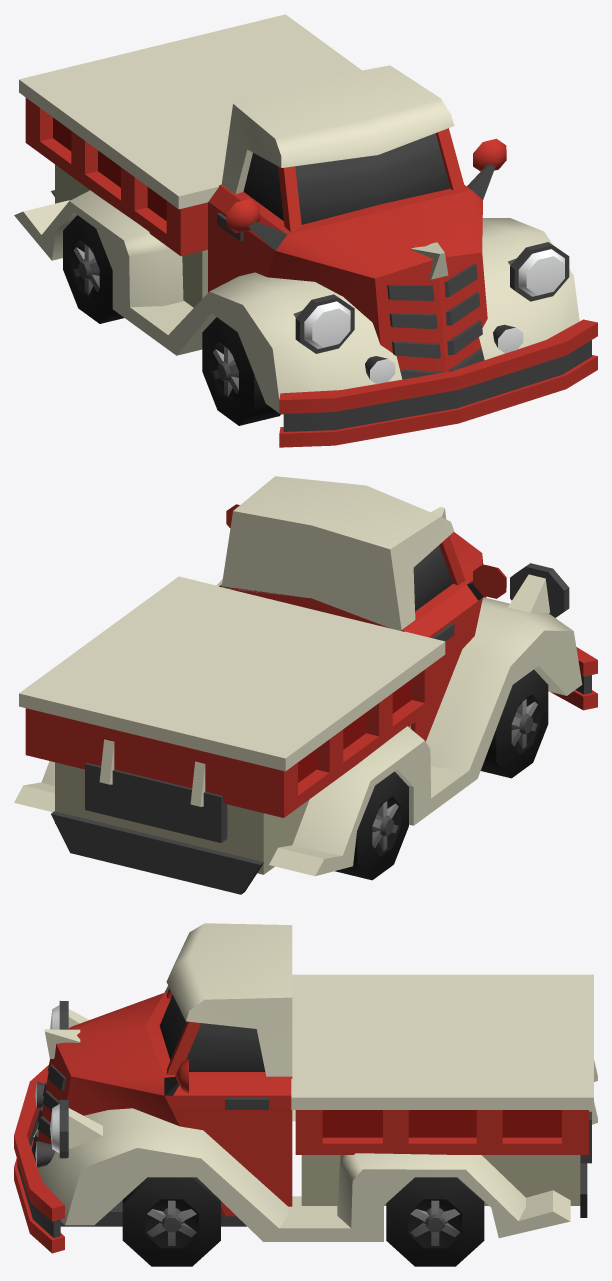
Rendered from head_A_1.fbx.
3 views of the same model, one above another, from view 1: azimuth 30°, elevation 25°; view 2: azimuth 150°, elevation 25°; view 3: azimuth 270°, elevation 25° (orthographic). The views are drawn at different scales.
Parts seen in each view (by area): view 1: head_A_1; view 2: head_A_1; view 3: head_A_1.
Part boxes in pixels (bbox=[...]): head_A_1: bbox=[14, 14, 597, 447]; head_A_1: bbox=[14, 476, 597, 894]; head_A_1: bbox=[14, 923, 597, 1266].
Size of the model in its own units: 1489 by 1143 by 2500.
